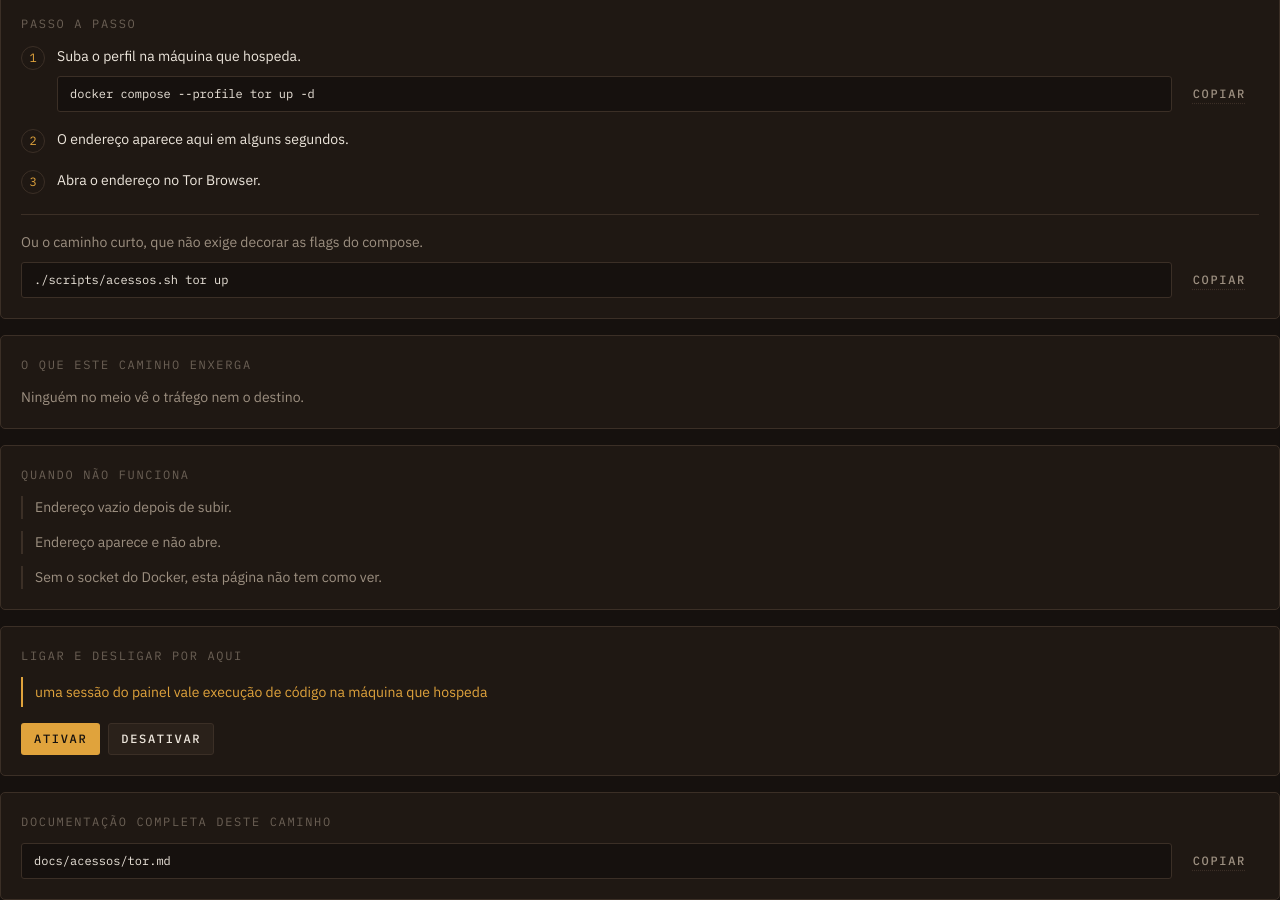
it: CaminhoExterno › perfil que nunca subiu mostra o comando de criar, com copiar
(page scrolled)
Step 1. Click the button "Ativar" → (61, 739), box [21,723,100,755]
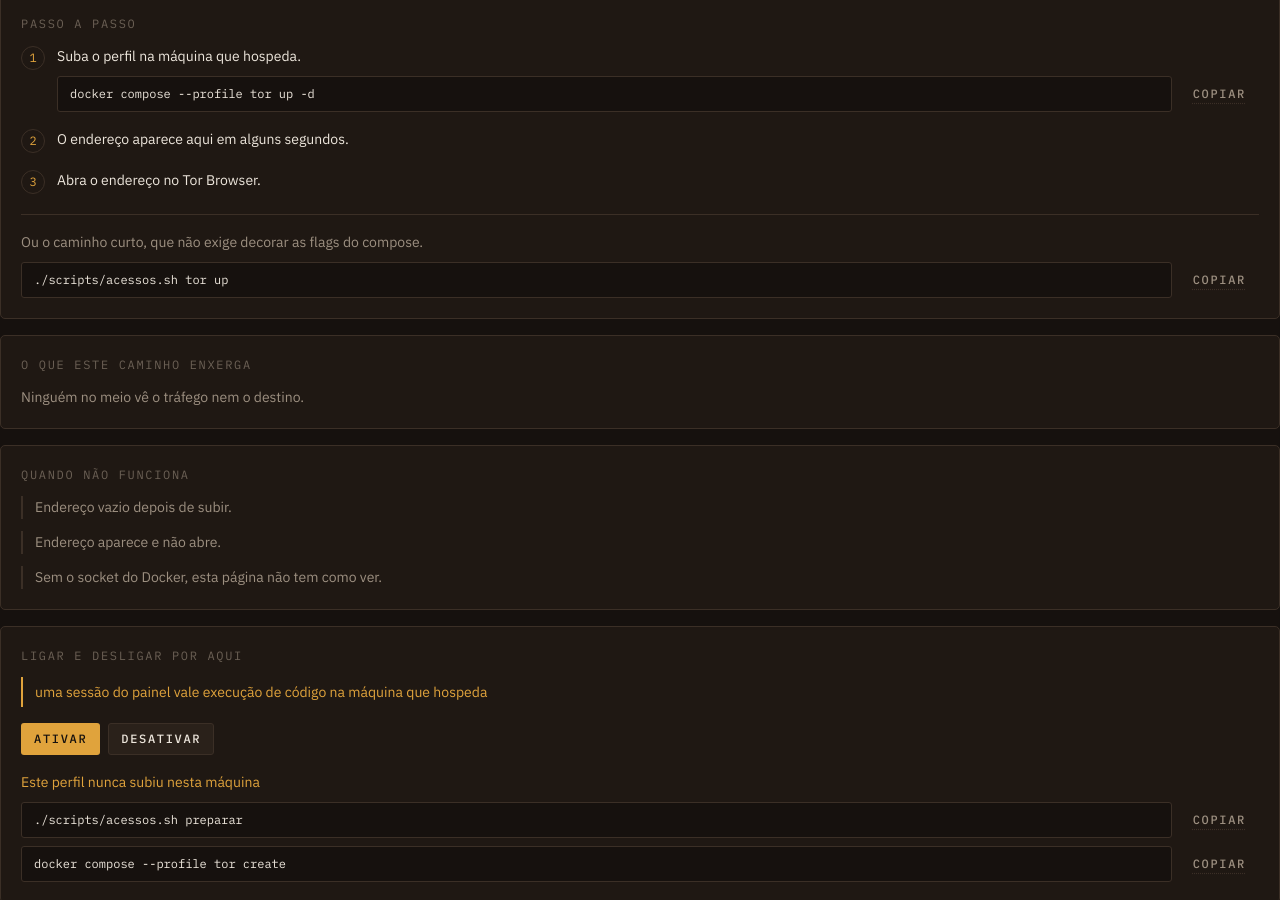
Expected: the text "docker compose --profile tor create" is shown, [21,846,1172,882]
Expected: the text "./scripts/acessos.sh preparar" is shown, [21,802,1172,838]
